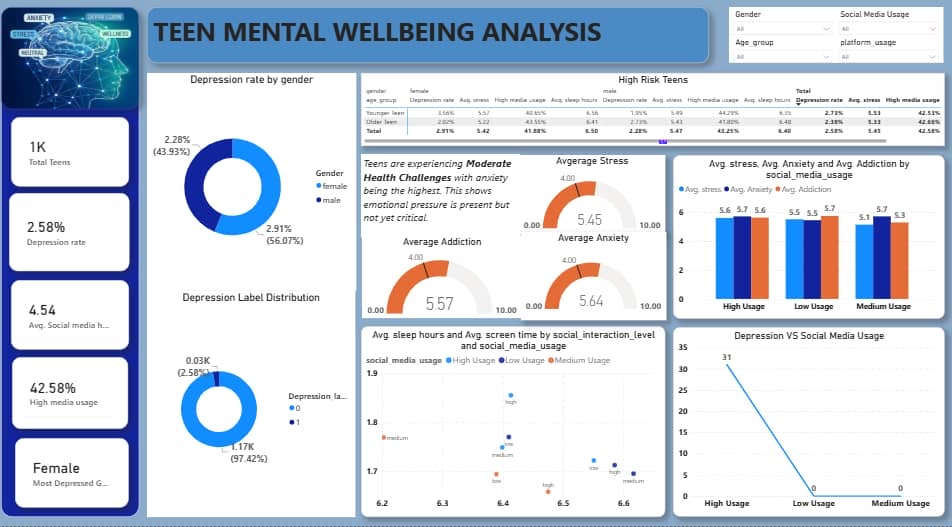

The dashboard page shown, as its layout file describes it:
{"tool":"powerbi","page":{"name":"Dashboard","canvas":[2000,1100],"ordinal":0},"visuals":[{"type":"textbox","box":[320.5,0,1170.5,136.4],"z":0},{"type":"textbox","box":[16.1,33.5,288.6,1063.6],"z":0,"group":"g4"},{"type":"gauge","title":"Avgerage Stress","fields":{"Y":["Teen_Mental_health_project.Avg. stress"]},"box":[1095.9,328.1,304.9,166.3],"z":0,"group":"g3"},{"type":"clusteredColumnChart","fields":{"Y":["Teen_Mental_health_project.Avg. stress","Teen_Mental_health_project.Avg. Anxiety","Teen_Mental_health_project.Avg. Addiction"],"Category":["Teen_Mental_health_project.social_media_usage"]},"box":[1415.9,327.3,565.9,340.9],"z":1000},{"type":"gauge","title":"Average Anxiety","fields":{"Y":["Teen_Mental_health_project.Avg. Anxiety"]},"box":[1098.6,486.5,302.5,184.2],"z":1000,"group":"g3"},{"type":"cardVisual","fields":{"Data":["Teen_Mental_health_project.Avg. Social media hours"]},"box":[37,596,247.4,147.4],"z":1000,"group":"g4"},{"type":"pivotTable","title":"High Risk Teens","fields":{"Rows":["Teen_Mental_health_project.age_group"],"Columns":["Teen_Mental_health_project.gender"],"Values":["Teen_Mental_health_project.Depression rate","Teen_Mental_health_project.Avg. stress","Teen_Mental_health_project.High media usage","Teen_Mental_health_project.Avg. sleep hours"]},"box":[765.9,156.8,1215.9,152.3],"z":2000},{"type":"gauge","title":"Average Addiction","fields":{"Y":["Teen_Mental_health_project.Avg. Addiction"]},"box":[767,496.8,334,171.4],"z":2000,"group":"g3"},{"type":"cardVisual","fields":{"Data":["Teen_Mental_health_project.High media usage"]},"box":[39.4,759.5,242.6,152],"z":2000,"group":"g4"},{"type":"cardVisual","fields":{"Data":["Teen_Mental_health_project.Total Teens"]},"box":[37.5,250.6,247.4,147.4],"z":3000,"group":"g4"},{"type":"scatterChart","fields":{"Category":["Teen_Mental_health_project.social_interaction_level"],"X":["Teen_Mental_health_project.Avg. sleep hours"],"Y":["Teen_Mental_health_project.Avg. screen time"],"Series":["Teen_Mental_health_project.social_media_usage"]},"box":[765.9,684.1,634.1,397.7],"z":3000},{"type":"cardVisual","fields":{"Data":["Teen_Mental_health_project.Depression rate"]},"box":[32.2,411.8,252.3,165.8],"z":4000,"group":"g4"},{"type":"lineChart","title":"Depression VS Social Media Usage","fields":{"Category":["Teen_Mental_health_project.social_media_usage"],"Y":["Sum(Teen_Mental_health_project.depression_label)"]},"box":[1415.9,686.4,565.9,395.5],"z":4000},{"type":"group","id":"g1","title":"Group 2","box":[320.5,156.8,436.4,925],"z":5000},{"type":"cardVisual","fields":{"Data":["Teen_Mental_health_project.Most Depressed Group"]},"box":[45,929.9,237.7,147.4],"z":5000,"group":"g4"},{"type":"group","id":"g2","title":"Group 3","box":[1534.1,0,447.7,136.4],"z":6000},{"type":"group","id":"g3","title":"Group 1","box":[765.9,325,634.1,345.5],"z":7000},{"type":"donutChart","title":"Depression Label Distribution","fields":{"Y":["CountNonNull(Teen_Mental_health_project.record_ID)"],"Category":["Teen_Mental_health_project.depression_label"]},"box":[320.5,610.4,434,471.4],"z":7000,"group":"g1"},{"type":"group","id":"g4","title":"Group 1","box":[16.1,33.5,288.6,1063.6],"z":8000},{"type":"image","box":[15.9,0,288.6,231.8],"z":9000},{"type":"slicer","fields":{"Values":["Teen_Mental_health_project.gender"]},"box":[1534.1,0,225.4,68.2],"z":12000,"group":"g2"},{"type":"slicer","fields":{"Values":["Teen_Mental_health_project.age_group"]},"box":[1534.1,68.2,225.4,68.2],"z":13000,"group":"g2"},{"type":"donutChart","fields":{"Category":["Teen_Mental_health_project.gender"],"Y":["Teen_Mental_health_project.Depression rate"]},"box":[320.5,156.8,436.4,453.6],"z":13003,"group":"g1"},{"type":"slicer","fields":{"Values":["Teen_Mental_health_project.social_media_usage"]},"box":[1753.5,0,228.4,70.3],"z":14000,"group":"g2"},{"type":"slicer","fields":{"Values":["Teen_Mental_health_project.platform_usage"]},"box":[1753.5,68.2,228.4,68.2],"z":15000,"group":"g2"},{"type":"textbox","box":[765.9,325,331.6,174],"z":15002,"group":"g3"}]}

Visuals, with their boxes in screenshot pixels (x1, y1, x2, y2), scaled from the page's 2000x1100 canvas onto the 952x527 screenshot:
textbox: locate(153, 0, 710, 65)
textbox: locate(8, 16, 145, 526)
"Avgerage Stress" gauge: locate(522, 157, 667, 237)
clusteredColumnChart - Teen_Mental_health_project.Avg. stress x Teen_Mental_health_project.Avg. Anxiety: locate(674, 157, 943, 320)
"Average Anxiety" gauge: locate(523, 233, 667, 321)
cardVisual - Teen_Mental_health_project.Avg. Social media hours: locate(18, 286, 135, 356)
"High Risk Teens" pivotTable: locate(365, 75, 943, 148)
"Average Addiction" gauge: locate(365, 238, 524, 320)
cardVisual - Teen_Mental_health_project.High media usage: locate(19, 364, 134, 437)
cardVisual - Teen_Mental_health_project.Total Teens: locate(18, 120, 136, 191)
scatterChart - Teen_Mental_health_project.social_interaction_level x Teen_Mental_health_project.Avg. sleep hours: locate(365, 328, 666, 518)
cardVisual - Teen_Mental_health_project.Depression rate: locate(15, 197, 135, 277)
"Depression VS Social Media Usage" lineChart: locate(674, 329, 943, 518)
"Group 2" group: locate(153, 75, 360, 518)
cardVisual - Teen_Mental_health_project.Most Depressed Group: locate(21, 446, 135, 516)
"Group 3" group: locate(730, 0, 943, 65)
"Group 1" group: locate(365, 156, 666, 321)
"Depression Label Distribution" donutChart: locate(153, 292, 359, 518)
"Group 1" group: locate(8, 16, 145, 526)
image: locate(8, 0, 145, 111)
slicer - Teen_Mental_health_project.gender: locate(730, 0, 838, 33)
slicer - Teen_Mental_health_project.age_group: locate(730, 33, 838, 65)
donutChart - Teen_Mental_health_project.gender x Teen_Mental_health_project.Depression rate: locate(153, 75, 360, 292)
slicer - Teen_Mental_health_project.social_media_usage: locate(835, 0, 943, 34)
slicer - Teen_Mental_health_project.platform_usage: locate(835, 33, 943, 65)
textbox: locate(365, 156, 522, 239)
